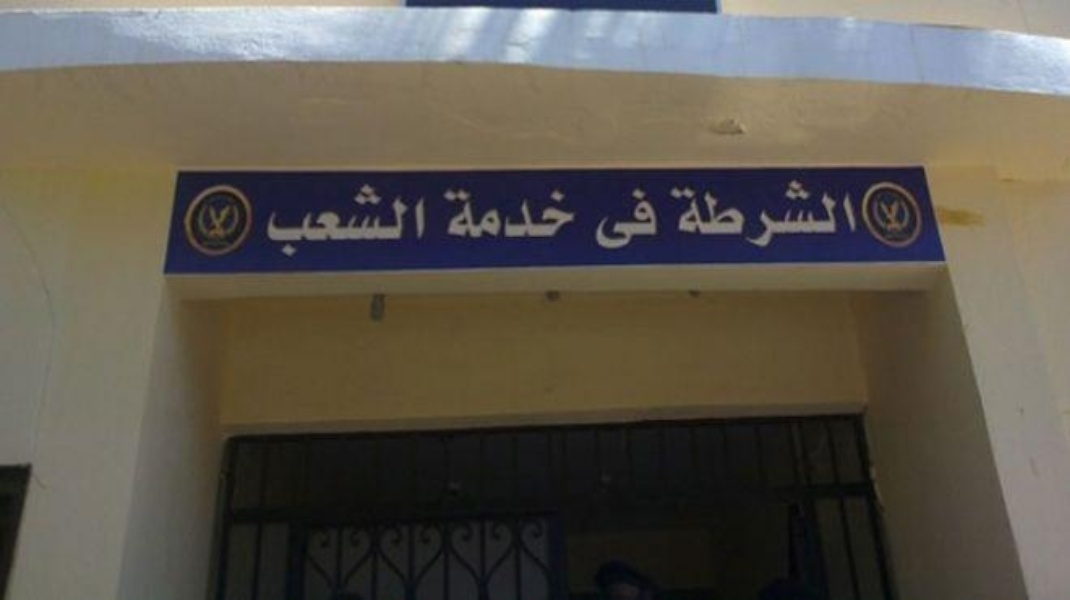text: (673, 172, 688, 253), (689, 172, 704, 253), (705, 172, 720, 253), (721, 172, 736, 253), (737, 172, 752, 253), (753, 172, 768, 253), (769, 172, 784, 253), (785, 172, 800, 253), (801, 172, 816, 253), (817, 172, 832, 253), (833, 172, 848, 253), (273, 182, 288, 258), (289, 182, 304, 258), (305, 182, 320, 258), (321, 182, 336, 258), (337, 182, 352, 258), (353, 182, 368, 258), (369, 182, 384, 258), (385, 182, 400, 258), (401, 182, 416, 258), (609, 185, 624, 252), (625, 185, 640, 252), (641, 185, 656, 252), (594, 185, 608, 252), (417, 182, 429, 258), (849, 172, 860, 253), (449, 185, 464, 241), (465, 185, 480, 241), (481, 185, 496, 241), (497, 185, 512, 241), (513, 185, 528, 241), (529, 185, 544, 241), (545, 185, 560, 241), (561, 185, 576, 241), (263, 182, 272, 258), (440, 185, 448, 241), (667, 172, 672, 253), (657, 185, 660, 252), (577, 185, 579, 241)
